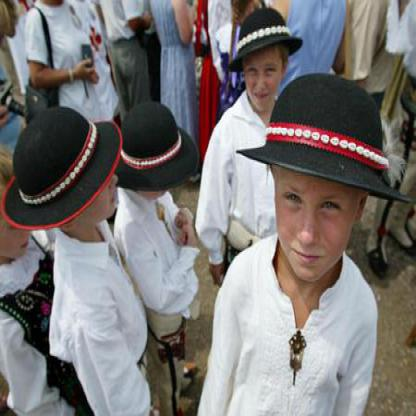face: (274, 131, 357, 284), (245, 36, 284, 114)
